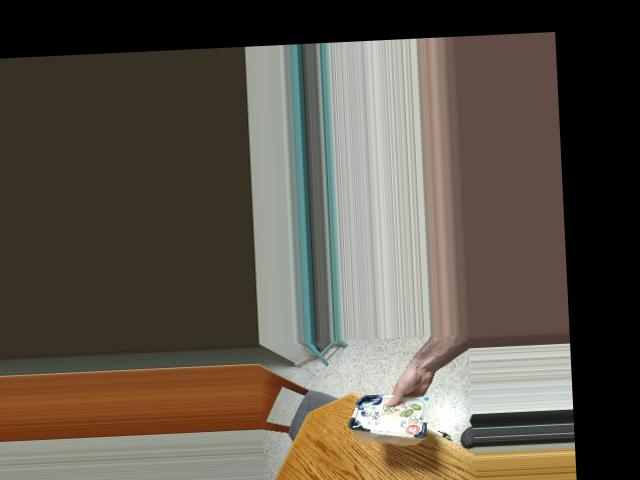cheese: (351, 384, 427, 443)
